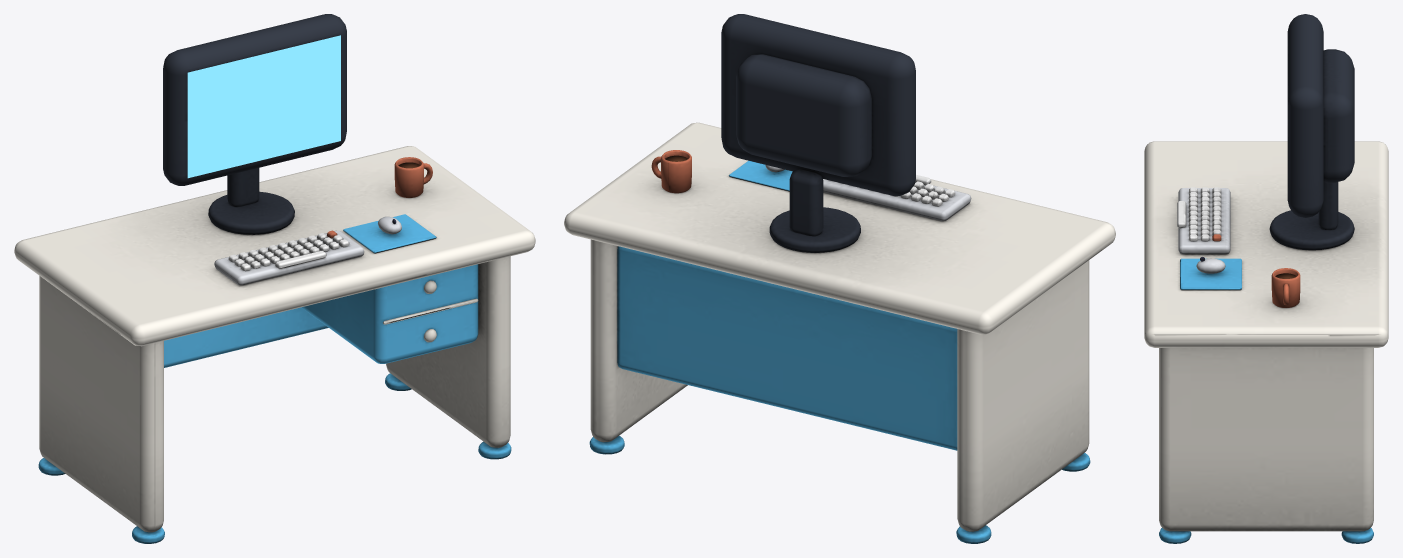
Rendered from desk_setup.glb.
3 views of the same model, side by side, from view 1: azimuth 30°, elevation 25°; view 2: azimuth 150°, elevation 25°; view 3: azimuth 270°, elevation 25° (orthographic). The views are drawn at different scales.
Parts seen in each view (by area): view 1: desk_setup; view 2: desk_setup; view 3: desk_setup.
Boxes of the visible parts, box(x1,y1,x2,y2) form: desk_setup: box(14, 14, 535, 543); desk_setup: box(564, 14, 1115, 543); desk_setup: box(1144, 14, 1388, 543).
Bounding box in the file's own units: 1.4 × 1.37 × 0.75.
Materials: 12 (11 with a texture image).
